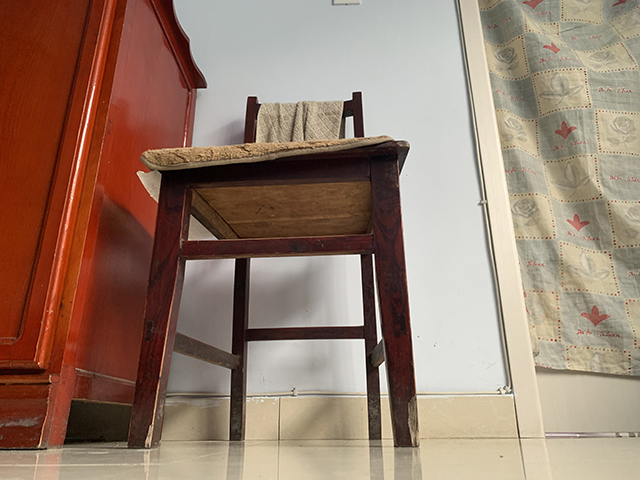cabinet: (1, 3, 209, 451)
stool: (127, 89, 424, 450)
